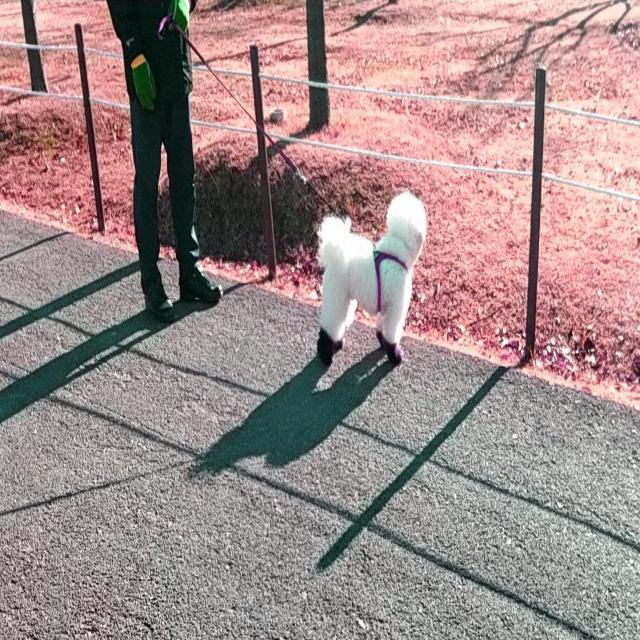Leashed_Dog: (155, 12, 427, 367)
